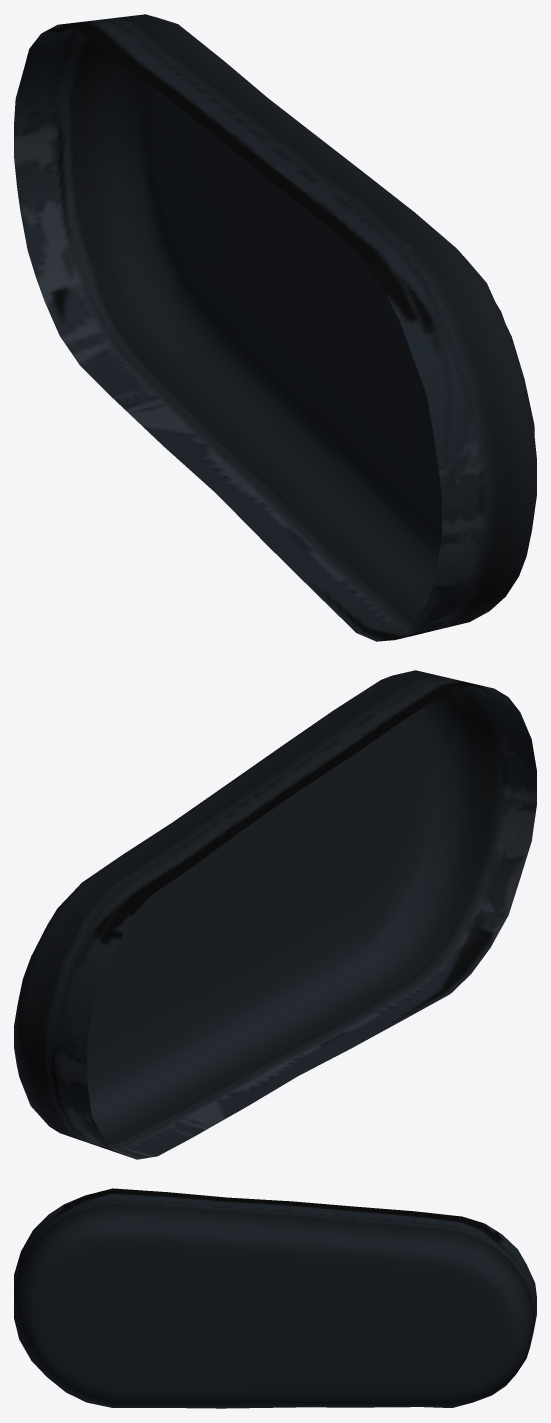
Rendered from left_grip.obj.
3 views of the same model, one above another, from view 1: azimuth 30°, elevation 25°; view 2: azimuth 150°, elevation 25°; view 3: azimuth 270°, elevation 25° (orthographic). The views are drawn at different scales.
Visible parts, largest first — view 1: left_grip; view 2: left_grip; view 3: left_grip.
Part boxes in pixels (left/top/right/bottom): left_grip: left=14, top=14, right=536, bottom=641; left_grip: left=14, top=670, right=536, bottom=1159; left_grip: left=14, top=1188, right=536, bottom=1408.
Size of the model in its own units: 0.0063 by 0.0128 by 0.0302.
1 material, 1 textured.
